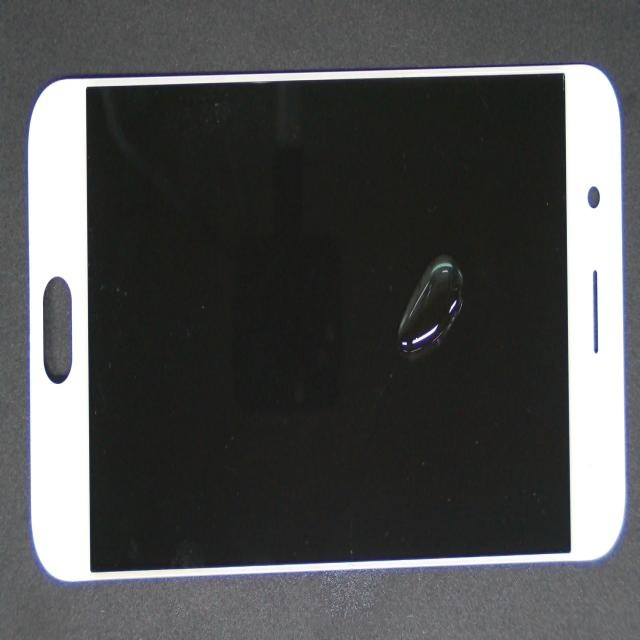oil: (246, 88, 640, 417)
